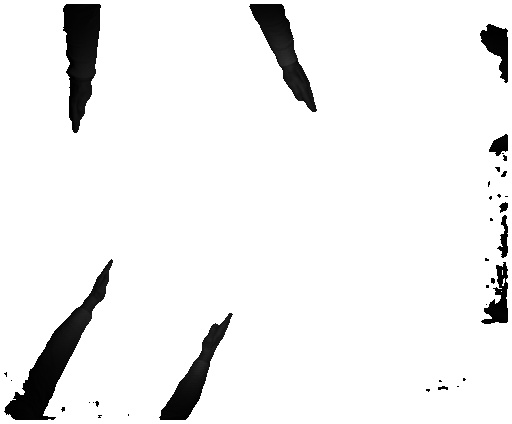spine: (273, 66, 319, 111), (192, 312, 239, 355), (86, 256, 119, 312), (64, 83, 95, 135)
